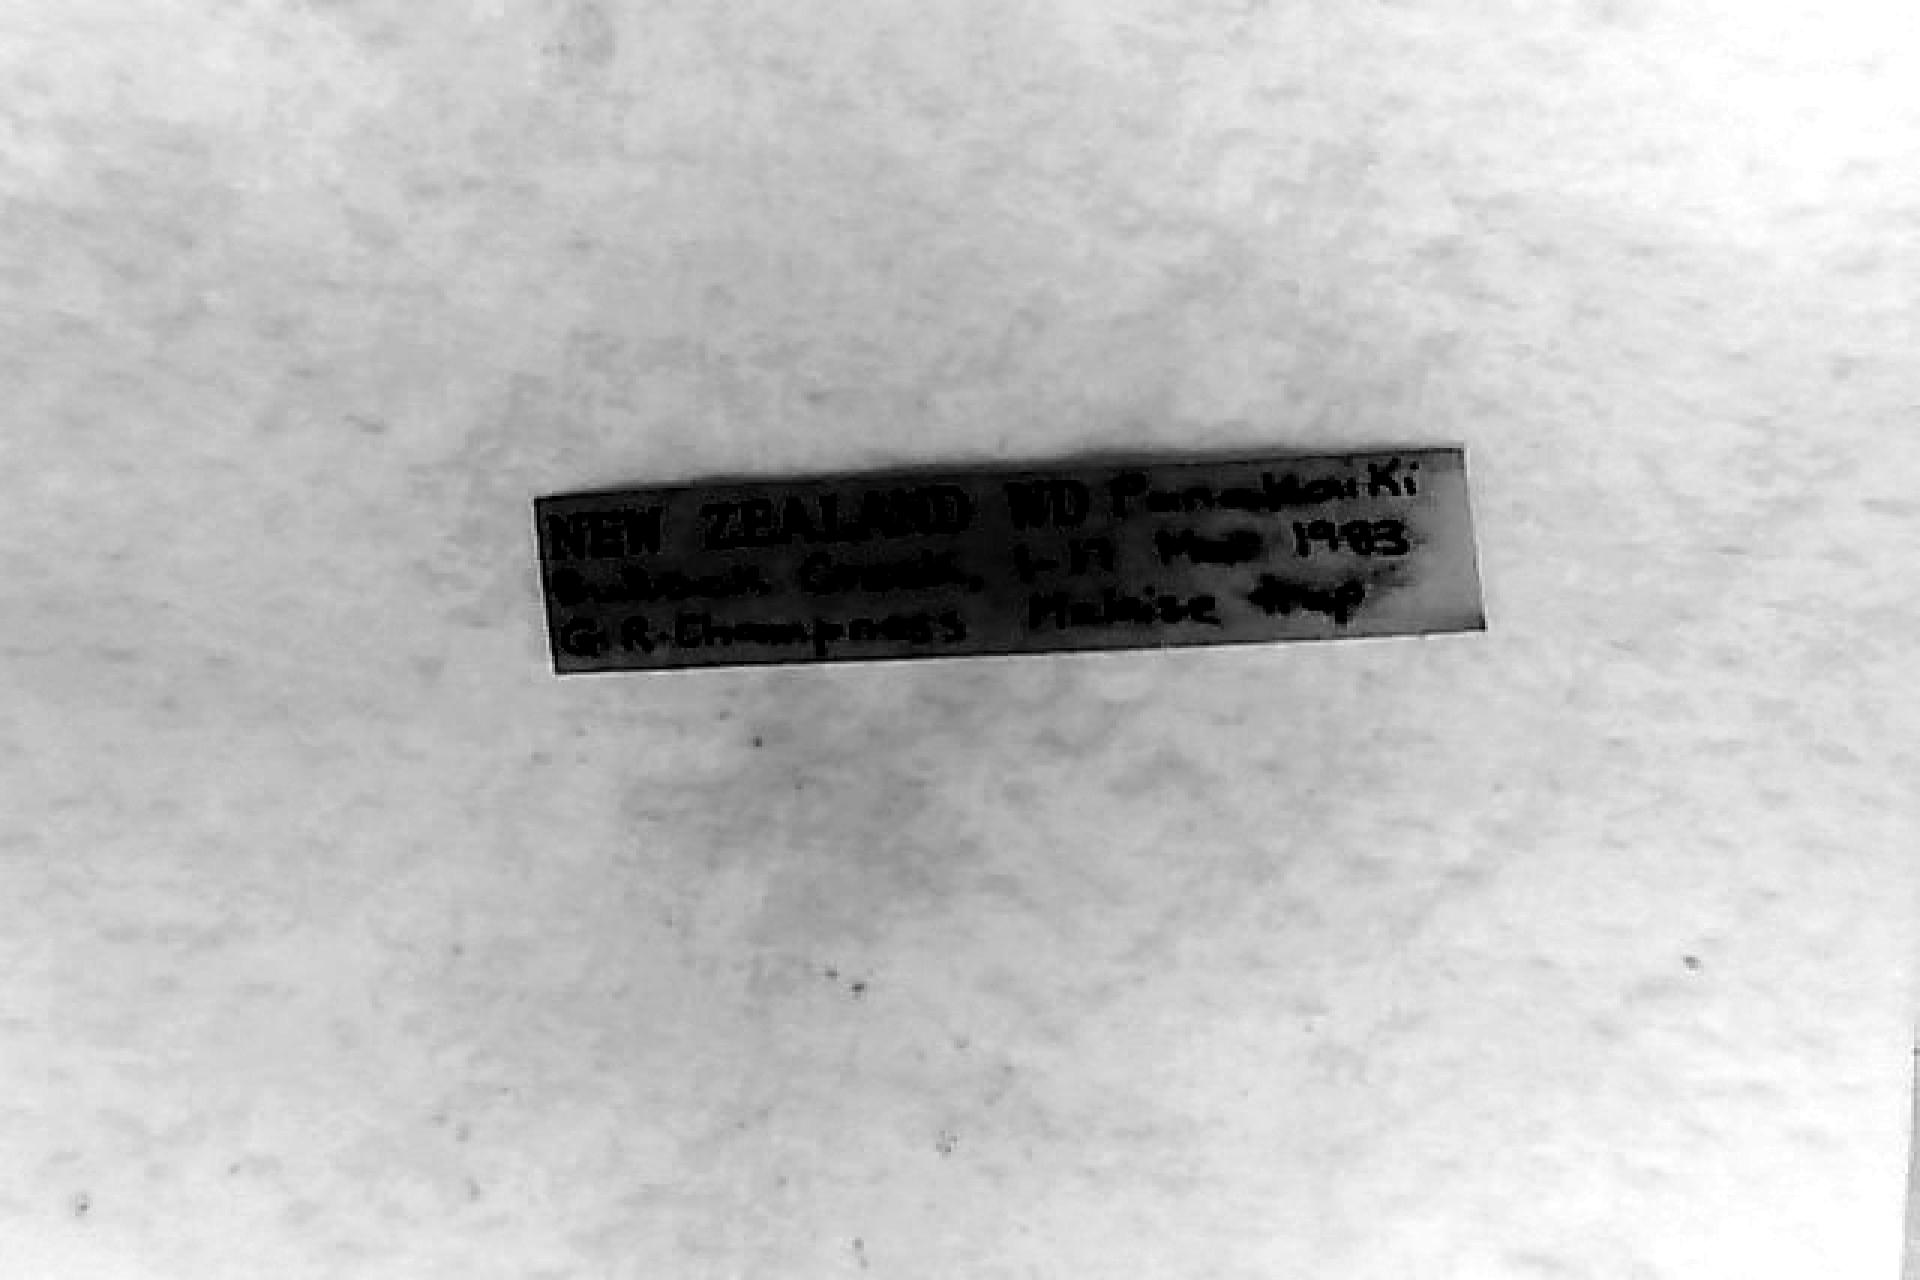mixed_label: (536, 451, 1480, 673)
